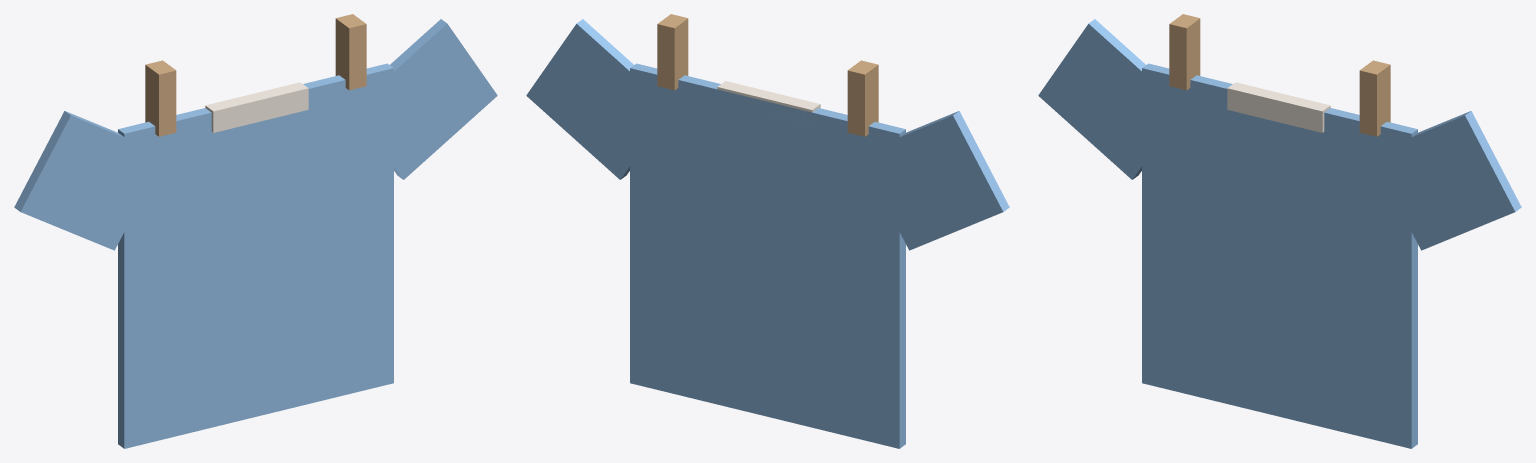
Rendered from laundry_shirt.glb.
The picture shows the model from 3 angles, left to right: view 1: azimuth 30°, elevation 25°; view 2: azimuth 150°, elevation 25°; view 3: azimuth 330°, elevation 25°; orthographic projection.
Parts seen in each view (by area): view 1: laundry_shirt; view 2: laundry_shirt; view 3: laundry_shirt.
Boxes of the visible parts, x1,y1,x2,y2 form: laundry_shirt: (14,14,497,448); laundry_shirt: (526,14,1009,448); laundry_shirt: (1038,14,1521,448).
Bounding box in the file's own units: 0.6023 × 0.4455 × 0.03.
